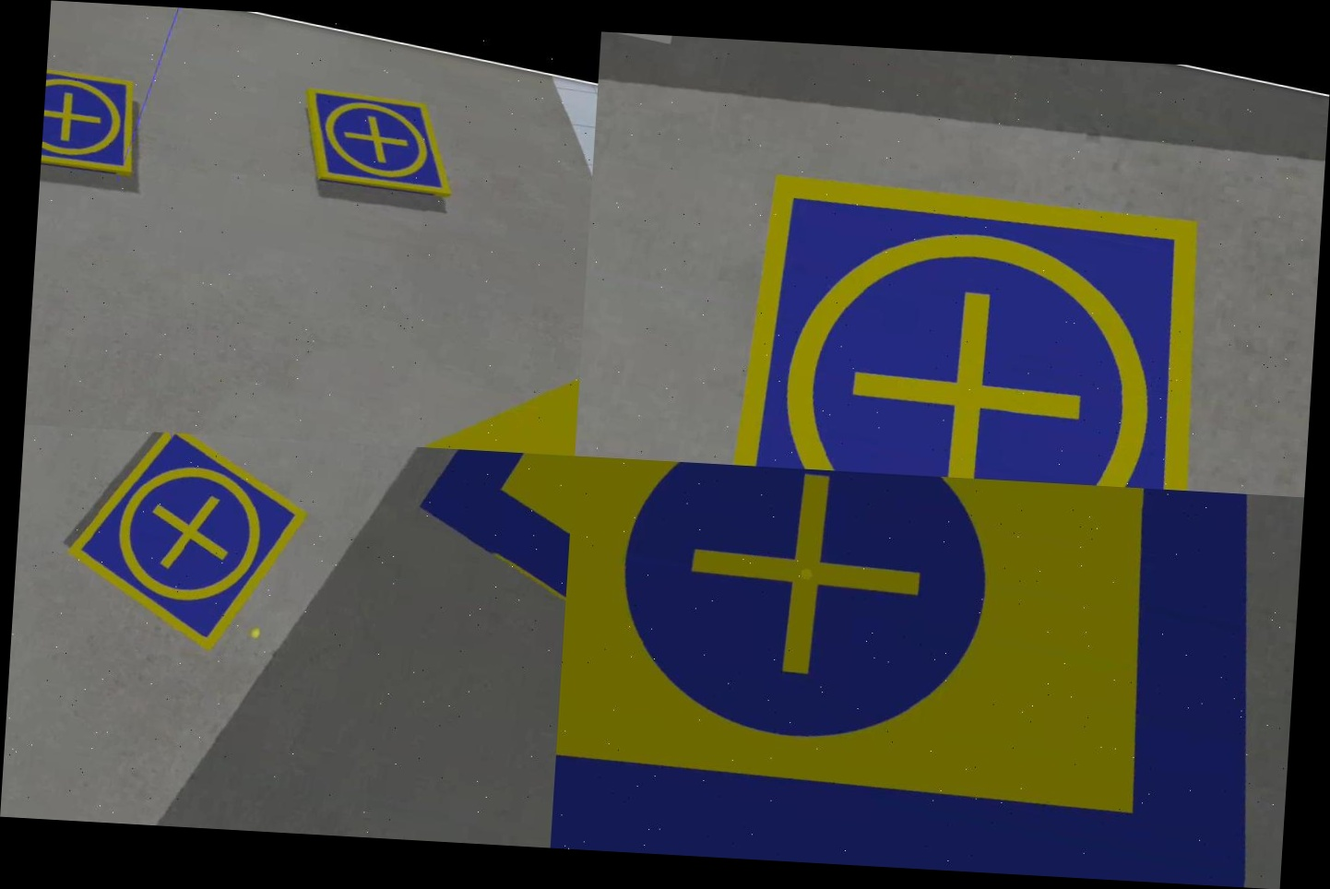large_base: (551, 456, 1303, 889), (382, 445, 575, 705)
small_base: (689, 130, 1277, 494), (45, 427, 323, 664), (285, 77, 469, 211), (40, 57, 157, 187)
